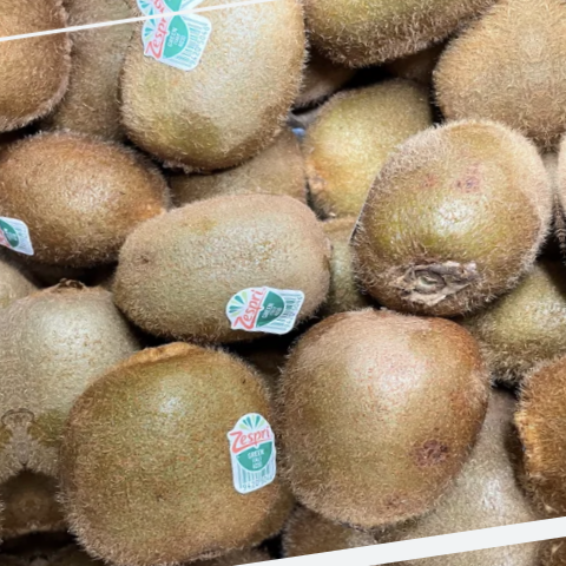kiwi: (234, 270, 511, 547), (37, 308, 319, 566), (337, 76, 566, 368), (92, 154, 367, 367), (82, 0, 332, 187)
